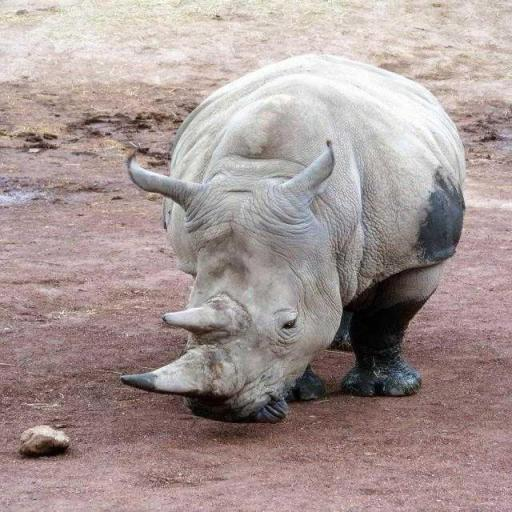Rhino: (118, 52, 468, 424)
